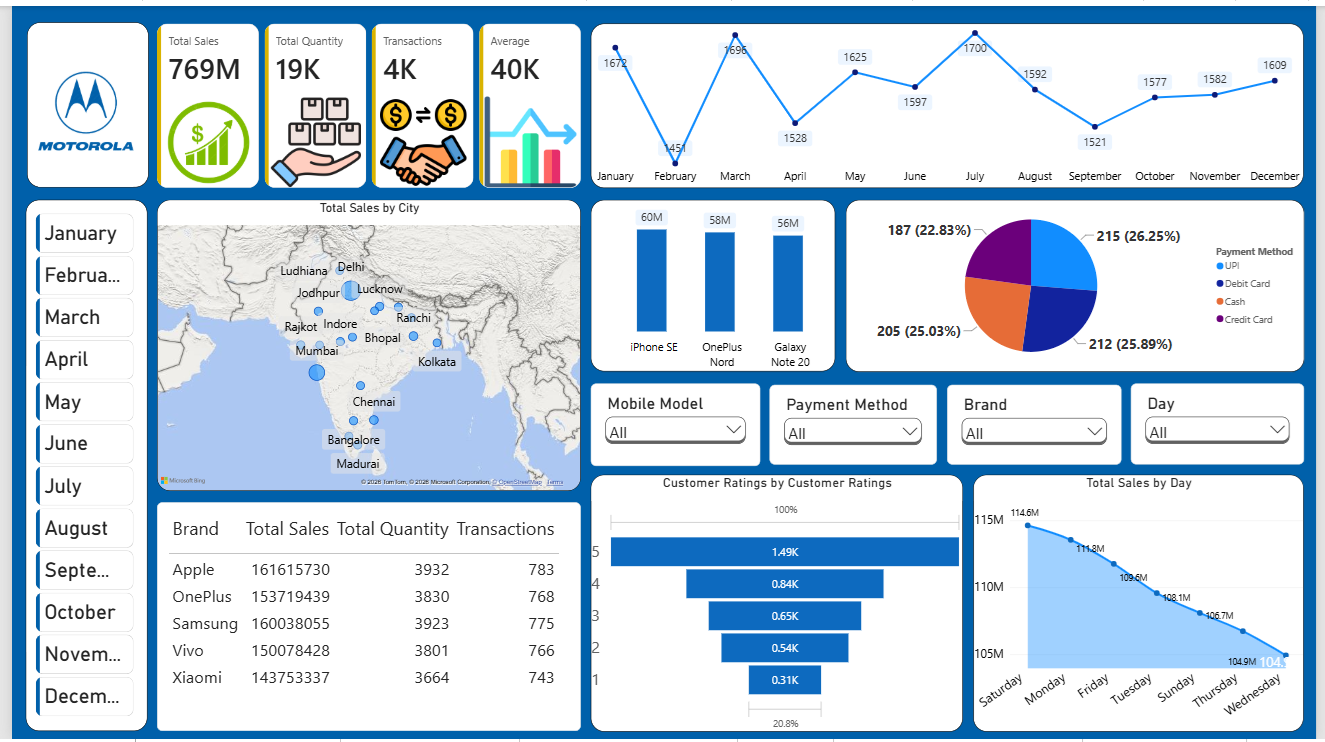

The page's visual inventory and layout, read from the dashboard file:
{"tool":"powerbi","page":{"name":"Page 2","canvas":[1920,1080],"ordinal":22},"visuals":[{"type":"shape","box":[22.6,24.7,179.1,242.9],"z":0},{"type":"image","box":[39.1,43.2,140,224.4],"z":1000},{"type":"shape","box":[20.6,286.1,179.1,782.2],"z":1001},{"type":"advancedSlicerVisual","fields":{"Values":["Employee_Data.Date of Joining.Variation.Date Hierarchy.Month"]},"box":[35,304.6,144.1,741],"z":1002},{"type":"cardVisual","fields":{"Data":["SalesData.Total Sales","SalesData.Total Quantity","SalesData.Transactions","SalesData.Average"]},"box":[213.5,25.3,624.3,242.5],"z":1003},{"type":"map","fields":{"Category":["SalesData.City"],"Size":["SalesData.Total Sales"]},"box":[214.1,286.1,624.3,428.9],"z":1004},{"type":"lineChart","fields":{"Category":["SalesData.Date.Variation.Date Hierarchy.Month","SalesData.Date.Variation.Date Hierarchy.Day"],"Y":["SalesData.Total Quantity"]},"box":[852.4,25.3,1049.6,242.5],"z":1005},{"type":"clusteredColumnChart","fields":{"Category":["SalesData.Mobile Model"],"Y":["SalesData.Total Sales"]},"box":[852.1,286.1,360.2,253.2],"z":1006},{"type":"pieChart","fields":{"Category":["SalesData.Payment Method"],"Y":["SalesData.Transactions"]},"box":[1227,285.9,675,253.4],"z":1007},{"type":"funnel","title":"Customer Ratings by Customer Ratings","fields":{"Category":["SalesData.Customer Ratings"],"Y":["CountNonNull(SalesData.Customer Ratings)"]},"box":[852.4,689.5,548.3,378.2],"z":1008},{"type":"areaChart","fields":{"Category":["SalesData.Day"],"Y":["SalesData.Total Sales"]},"box":[1415.2,689.5,486.8,378.2],"z":1009},{"type":"tableEx","fields":{"Values":["SalesData.Brand","SalesData.Total Sales","SalesData.Total Quantity","SalesData.Transactions"]},"box":[213.5,731.1,624.3,336.6],"z":1010},{"type":"slicer","fields":{"Values":["SalesData.Mobile Model"]},"box":[852.4,555.6,249.7,121.2],"z":1011},{"type":"slicer","fields":{"Values":["SalesData.Payment Method"]},"box":[1114.8,557.4,246.1,117.6],"z":1012},{"type":"slicer","fields":{"Values":["SalesData.Brand"]},"box":[1377.2,557.4,257,117.6],"z":1013},{"type":"slicer","fields":{"Values":["SalesData.Day"]},"box":[1646.8,555.6,255.2,119.4],"z":1014}]}

Visuals, with their boxes in screenshot pixels (x1, y1, x2, y2), scaled from the page's 1920x1080 canvas onto the 1325x742 screenshot:
shape: locate(16, 17, 139, 184)
image: locate(27, 30, 124, 184)
shape: locate(14, 197, 138, 734)
advancedSlicerVisual - Employee_Data.Date of Joining.Variation.Date Hierarchy.Month: locate(24, 209, 124, 718)
cardVisual - SalesData.Total Sales x SalesData.Total Quantity: locate(147, 17, 578, 184)
map - SalesData.City x SalesData.Total Sales: locate(148, 197, 579, 491)
lineChart - SalesData.Date.Variation.Date Hierarchy.Month x SalesData.Date.Variation.Date Hierarchy.Day: locate(588, 17, 1313, 184)
clusteredColumnChart - SalesData.Mobile Model x SalesData.Total Sales: locate(588, 197, 837, 371)
pieChart - SalesData.Payment Method x SalesData.Transactions: locate(847, 196, 1313, 371)
"Customer Ratings by Customer Ratings" funnel: locate(588, 474, 967, 734)
areaChart - SalesData.Day x SalesData.Total Sales: locate(977, 474, 1313, 734)
tableEx - SalesData.Brand x SalesData.Total Sales: locate(147, 502, 578, 734)
slicer - SalesData.Mobile Model: locate(588, 382, 761, 465)
slicer - SalesData.Payment Method: locate(769, 383, 939, 464)
slicer - SalesData.Brand: locate(950, 383, 1128, 464)
slicer - SalesData.Day: locate(1136, 382, 1313, 464)
